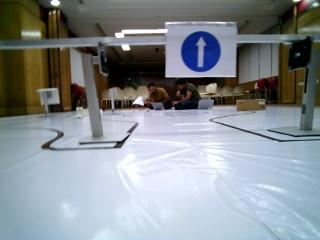straight: (166, 25, 236, 77)
